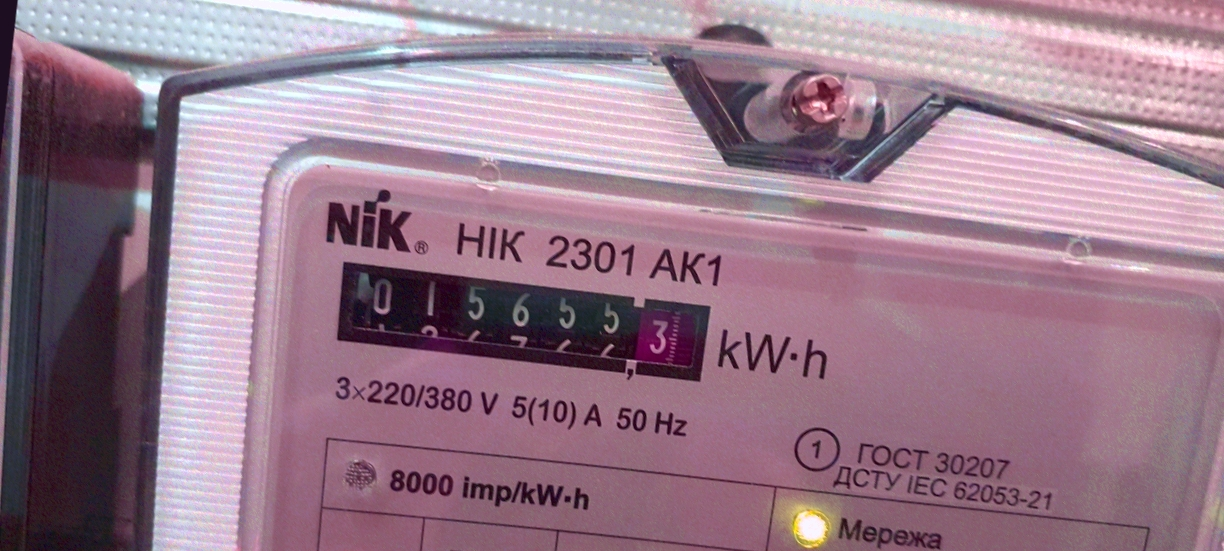0: (367, 274, 396, 318)
1: (419, 279, 441, 319)
3: (646, 318, 669, 356)
5: (461, 285, 489, 322), (553, 297, 580, 331), (600, 302, 622, 336)
6: (507, 291, 534, 329)
screen: (318, 245, 726, 399)
